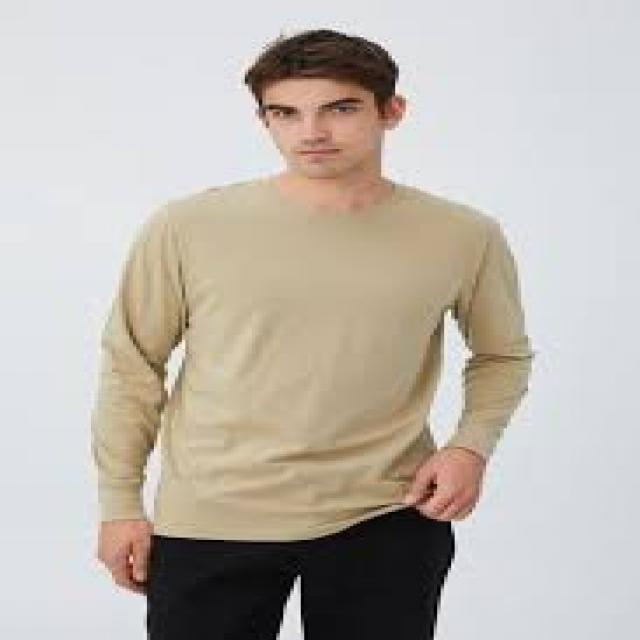plain: (67, 178, 566, 548)
